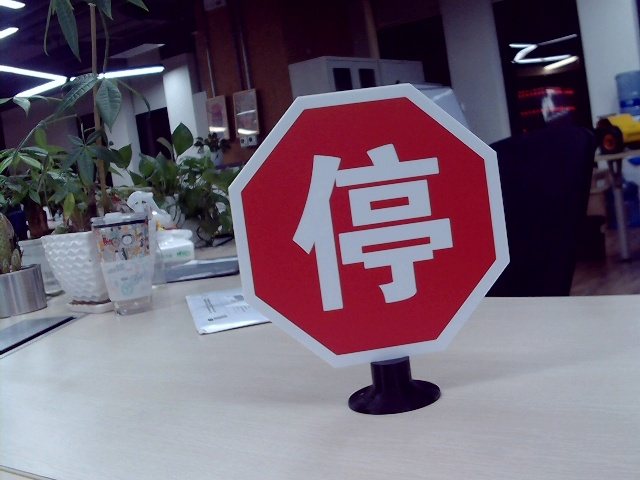stop: (293, 137, 450, 314)
